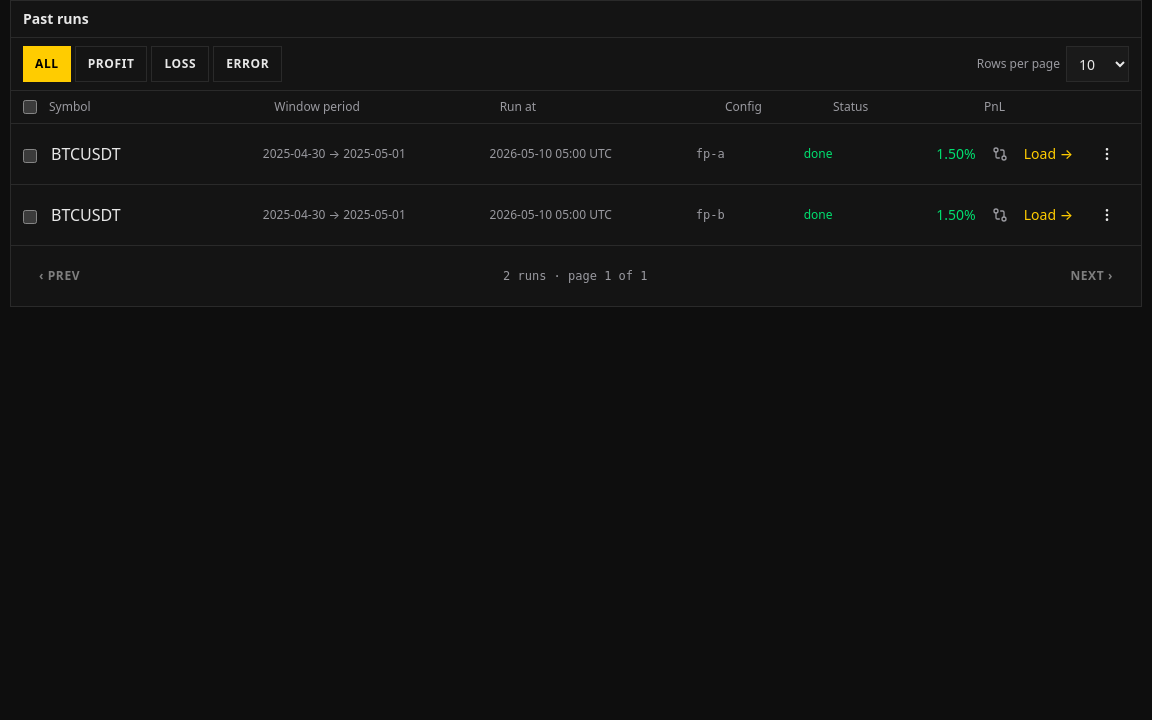
Test: past runs: picking two runs to compare their configs › arms one run, then opens the diff against the second with the value from each side
The image size is (1152, 720).
Click the button named "Compare config of BTCUSDT run a1111111 from 2026-05-10 05:00" at coordinates (1000, 154), box [988,142,1012,166]
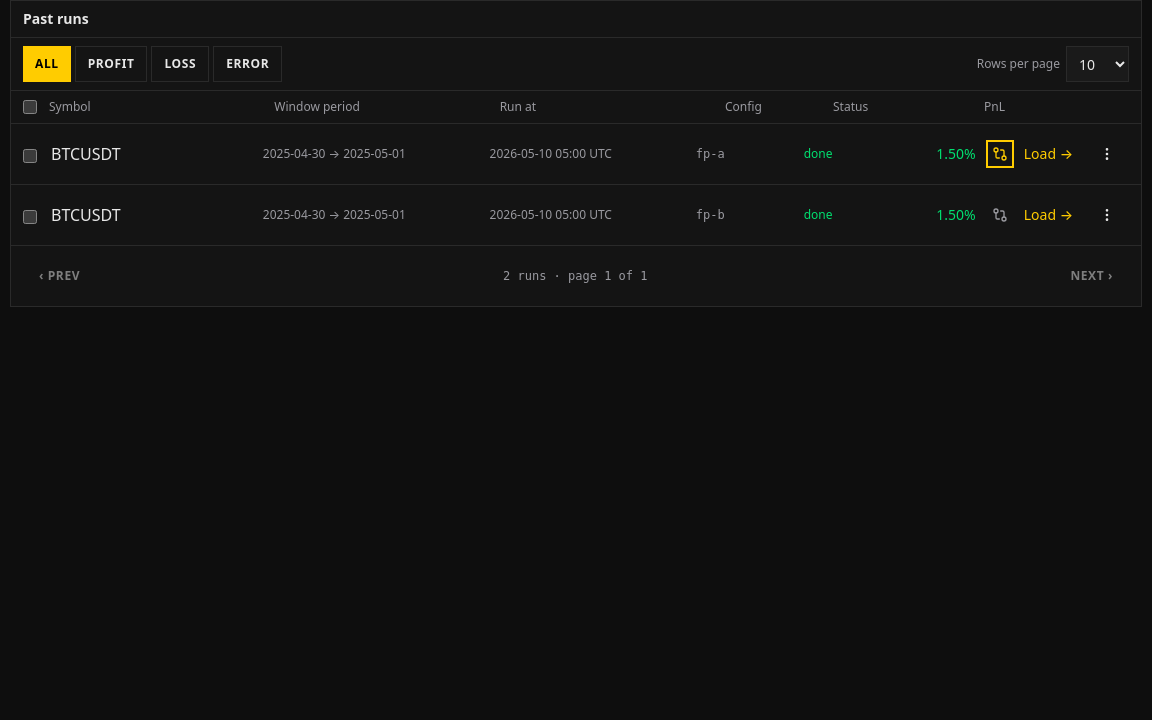
Click the button named "Compare config of BTCUSDT run a2222222 from 2026-05-10 05:00" at coordinates (1000, 215), box [988,203,1012,227]
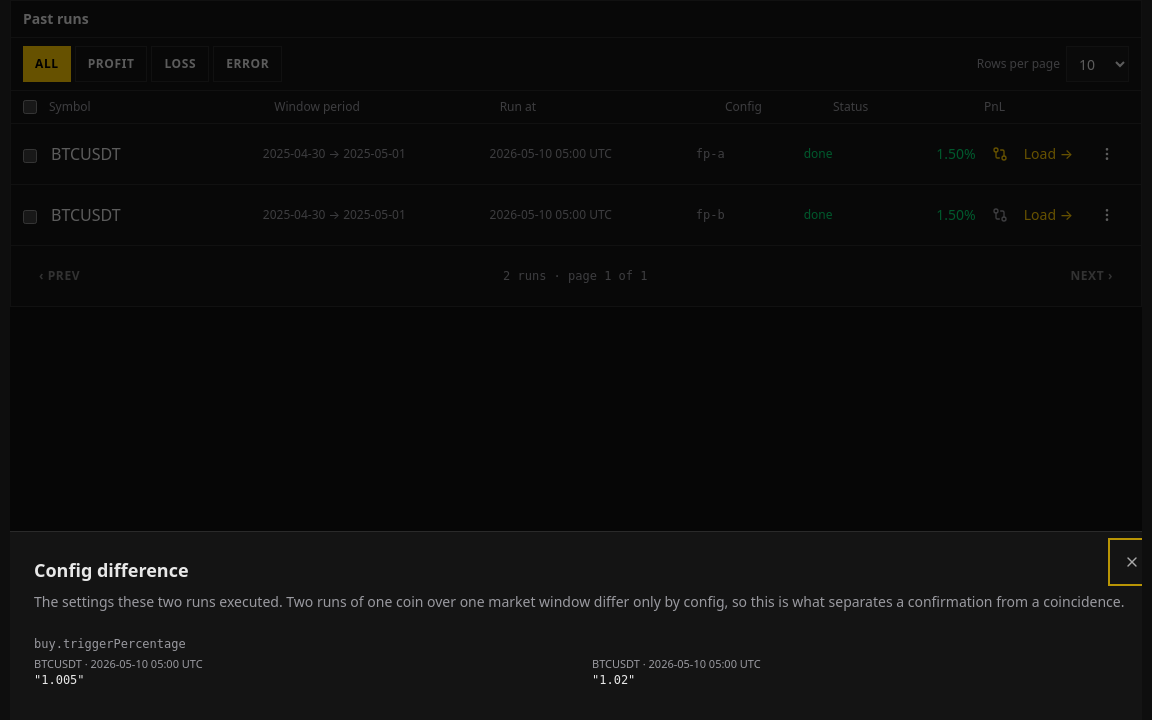
Now the dialog with test id "backtest-config-compare-sheet" shows "buy.triggerPercentage", box [34,637,186,651]
Now the dialog with test id "backtest-config-compare-sheet" shows "1.005", box [34,673,85,687]
Now the dialog with test id "backtest-config-compare-sheet" shows "1.02", box [592,673,635,687]
